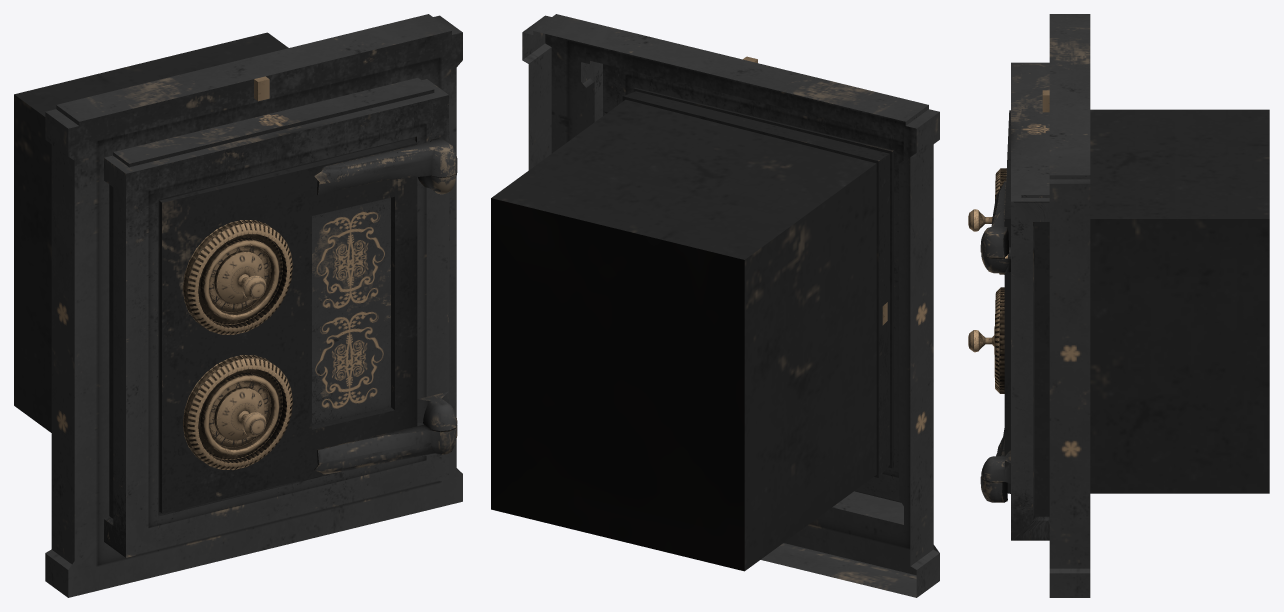
The model's file is Wall Safe Deep Vault Animatable.fbx.
3 views of the same model, side by side, from view 1: azimuth 30°, elevation 25°; view 2: azimuth 150°, elevation 25°; view 3: azimuth 270°, elevation 25° (orthographic). The views are drawn at different scales.
Parts seen in each view (by area): view 1: safe, Door, Dial_Main_02, Dial_Main; view 2: safe, Door; view 3: safe, Door, Dial_Main.
Boxes of the visible parts, x1,y1,x2,y2 form: safe: (14,14,462,597); Door: (159,138,457,512); Dial_Main_02: (214,250,266,303); Dial_Main: (214,387,266,440); safe: (491,14,939,597); Door: (622,91,889,477); safe: (981,14,1269,597); Door: (980,110,1010,502); Dial_Main: (968,326,994,354).
Bounding box in the file's own units: 97.86 × 112 × 73.39.
